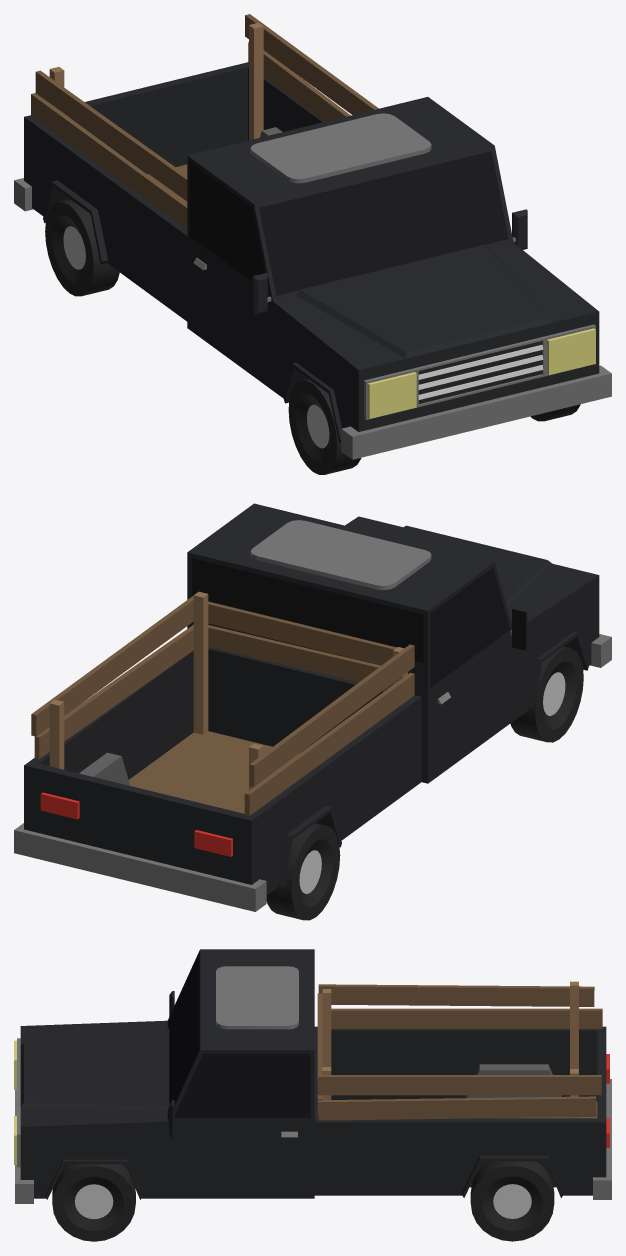
File: Pickup_04.fbx
The picture shows the model from 3 angles, top to bottom: view 1: azimuth 30°, elevation 25°; view 2: azimuth 150°, elevation 25°; view 3: azimuth 270°, elevation 25°; orthographic projection. The views are drawn at different scales.
Visible parts, largest first — view 1: Pickup_04, Pickup_04_Wooden_Bed; view 2: Pickup_04, Pickup_04_Wooden_Bed; view 3: Pickup_04, Pickup_04_Wooden_Bed.
Part boxes in pixels (x1,y1,x2,y2): Pickup_04: (14,62,611,474); Pickup_04_Wooden_Bed: (31,14,378,229); Pickup_04: (14,503,611,920); Pickup_04_Wooden_Bed: (31,591,414,815); Pickup_04: (14,949,611,1241); Pickup_04_Wooden_Bed: (317,981,602,1120).
Size of the model in its own units: 2.97 by 2.34 by 6.53.
